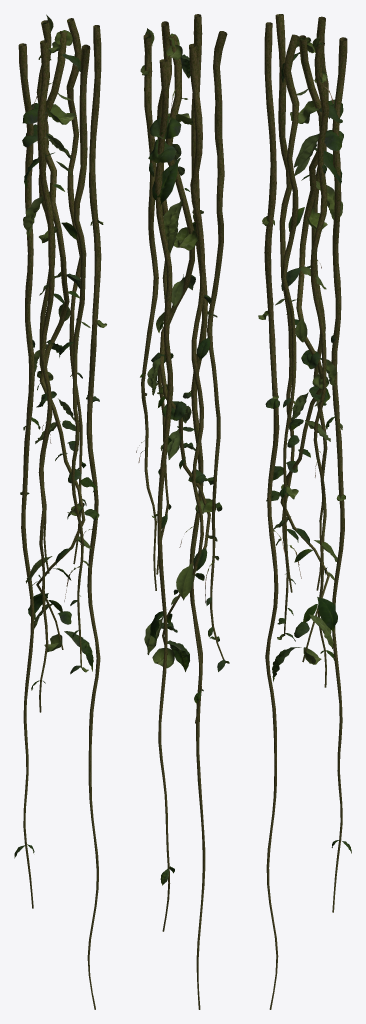
The model's file is SM_Vine_D.fbx.
3 renders of one model, left to right at view 1: azimuth 90°, elevation 25°; view 2: azimuth 150°, elevation 25°; view 3: azimuth 270°, elevation 25°, orthographic.
Parts seen in each view (by area): view 1: SM_Vine_D_LOD0; view 2: SM_Vine_D_LOD0; view 3: SM_Vine_D_LOD0.
Boxes of the visible parts, bbox=[...] form: SM_Vine_D_LOD0: bbox=[14, 14, 106, 1009]; SM_Vine_D_LOD0: bbox=[136, 14, 229, 1009]; SM_Vine_D_LOD0: bbox=[258, 14, 351, 1009].
Bounding box in the file's own units: 64.83 × 71.28 × 830.
